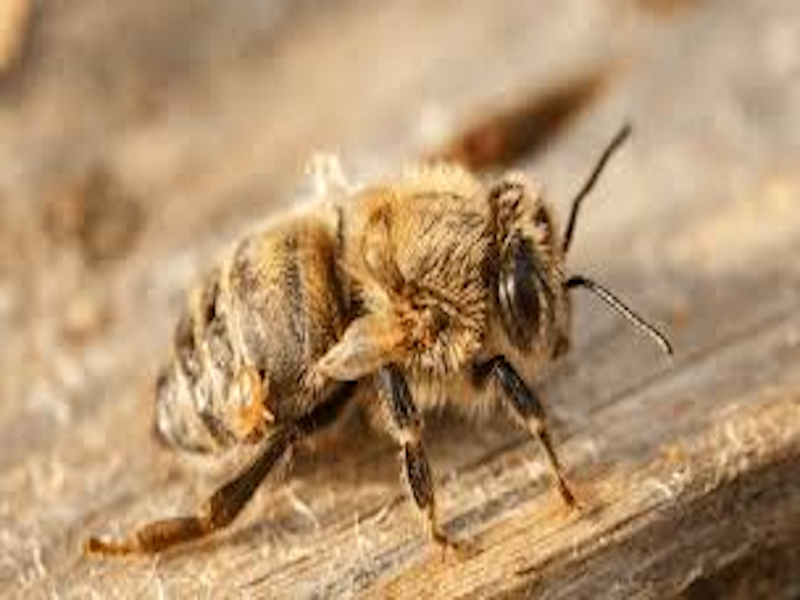abeja: (87, 94, 670, 592)
